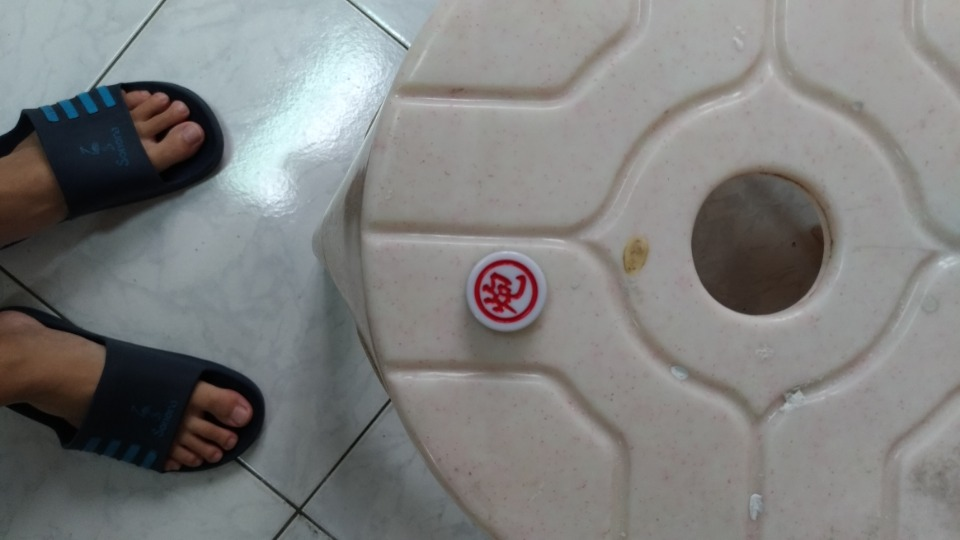r-cannon: (447, 244, 569, 342)
